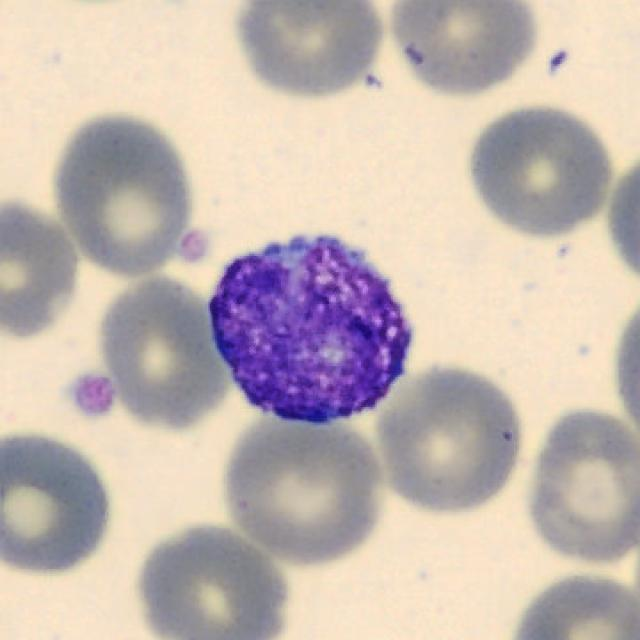Linfocito: (206, 236, 411, 427)
